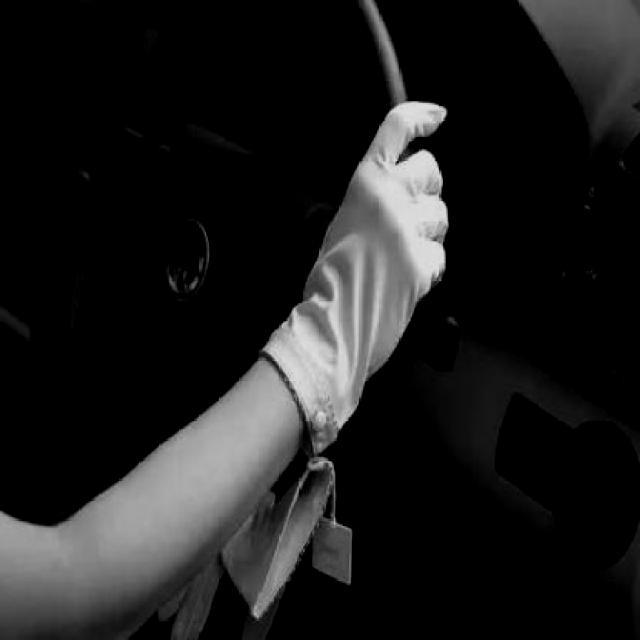hand_glove: (320, 96, 454, 367)
